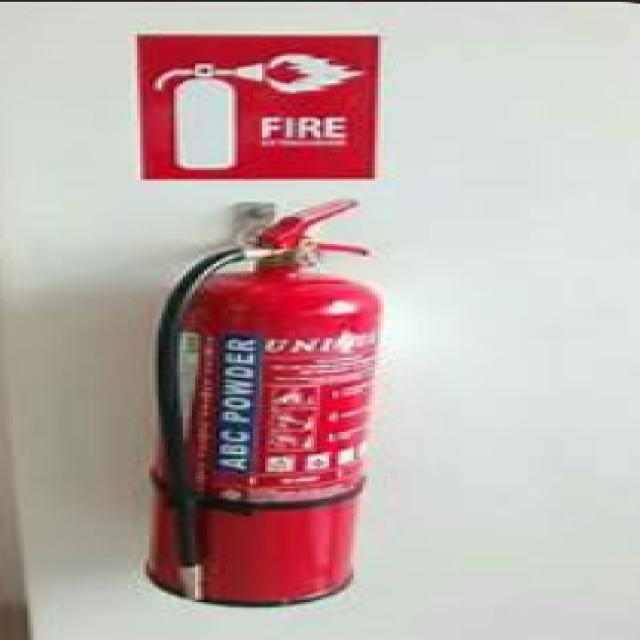fire extinguisher: (98, 206, 422, 614)
fire signage: (126, 25, 386, 187)
